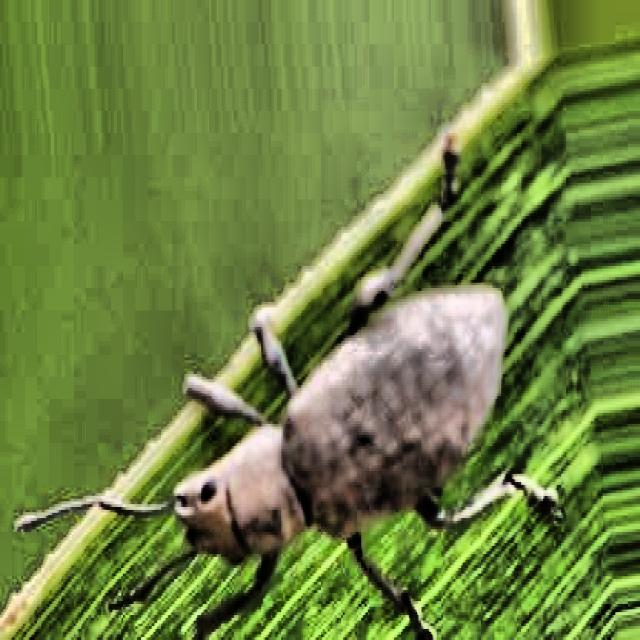Stink bug: (119, 210, 572, 594)
